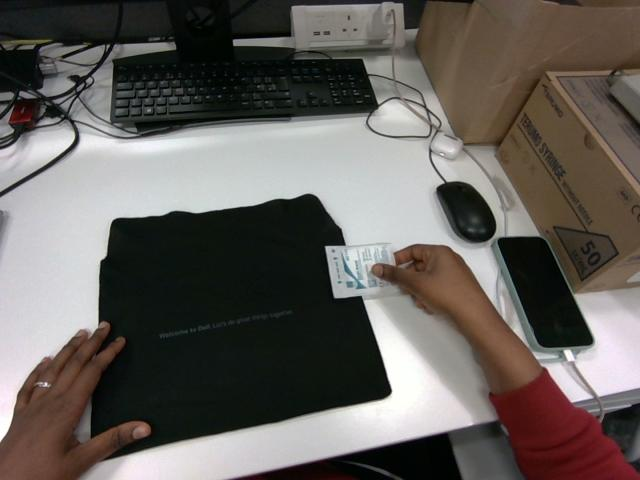gauze: (325, 243, 395, 298)
